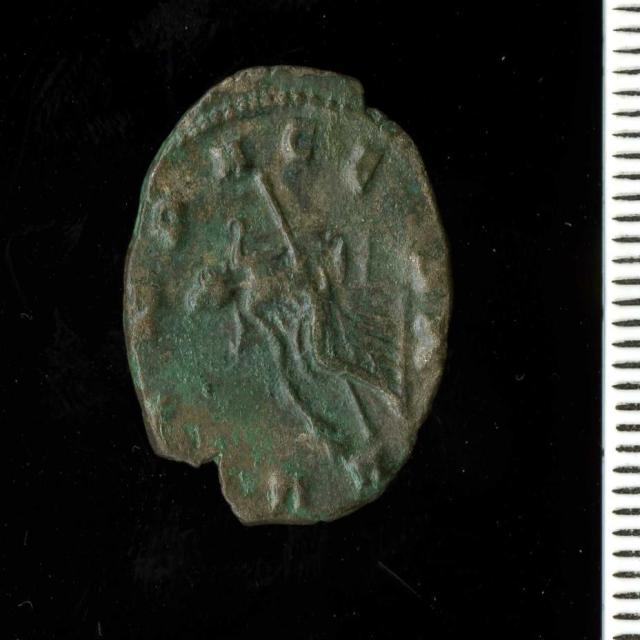Coin: (129, 64, 451, 524)
